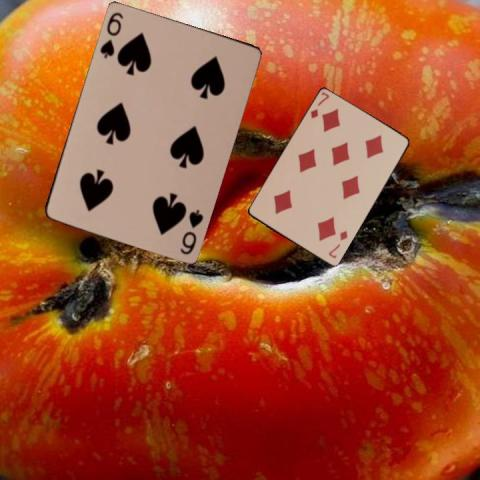6s: (96, 9, 124, 59), (176, 206, 204, 255)
7d: (325, 227, 349, 260), (307, 89, 331, 120)
